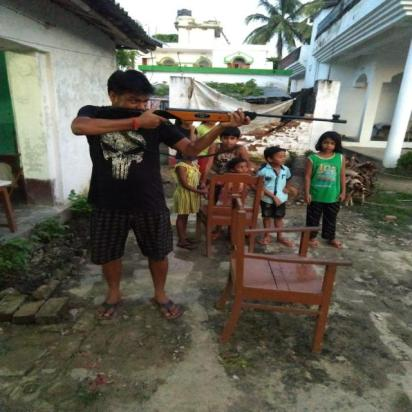Gun: (93, 106, 348, 124)
